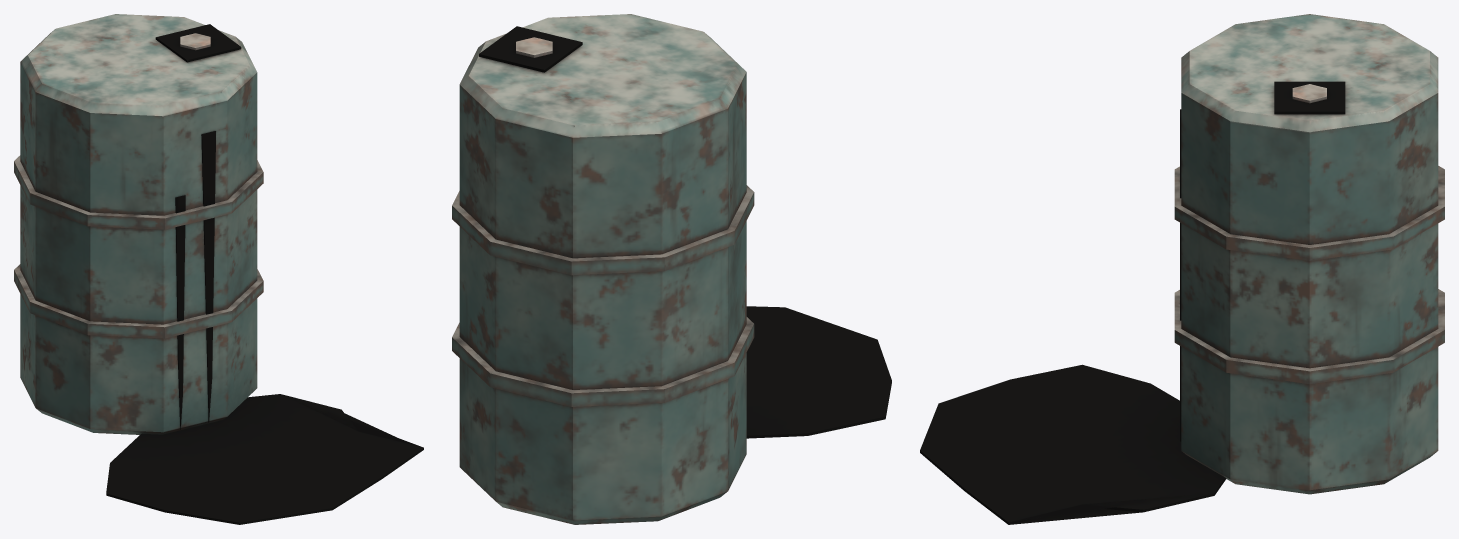
Rendered from oil_drum.fbx.
The picture shows the model from 3 angles, left to right: view 1: azimuth 30°, elevation 25°; view 2: azimuth 150°, elevation 25°; view 3: azimuth 270°, elevation 25°; orthographic projection. The views are drawn at different scales.
Parts seen in each view (by area): view 1: Body; view 2: Body; view 3: Body.
Boxes of the visible parts, box(x1,y1,x2,y2) form: Body: box(14, 14, 423, 524); Body: box(452, 14, 891, 524); Body: box(920, 14, 1444, 524).
Bounding box in the file's own units: 2.62 × 2.95 × 3.69.
1 material, 1 textured.
